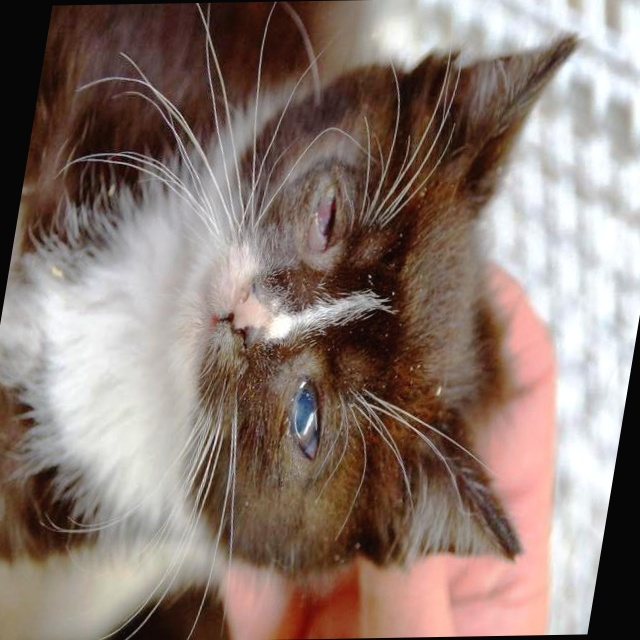eye_infection: (294, 177, 354, 256)
